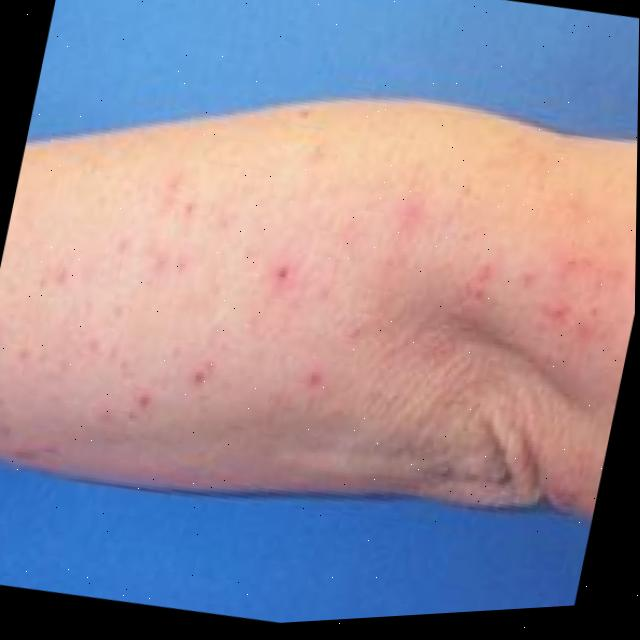Eczema: (0, 106, 638, 530)
